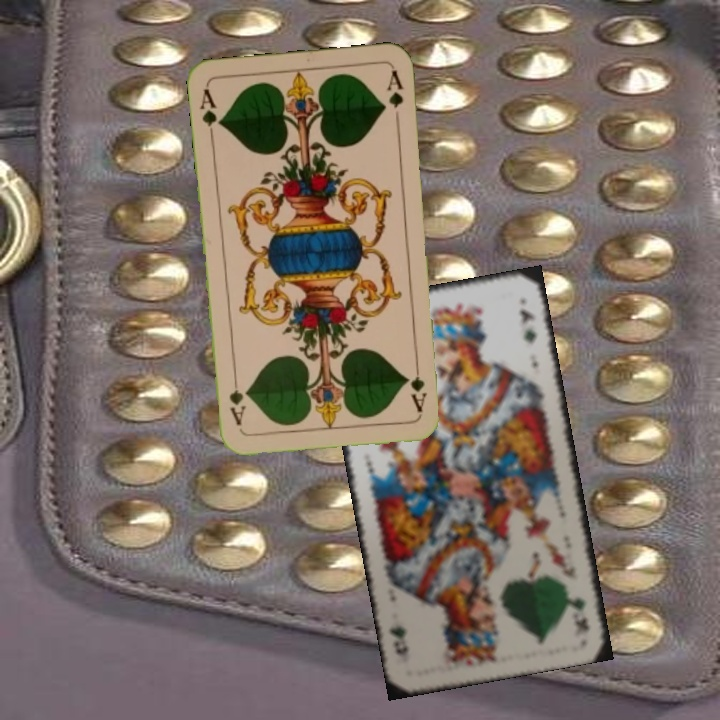GA: (196, 85, 225, 143), (408, 355, 430, 415)
GK: (566, 593, 592, 638)
